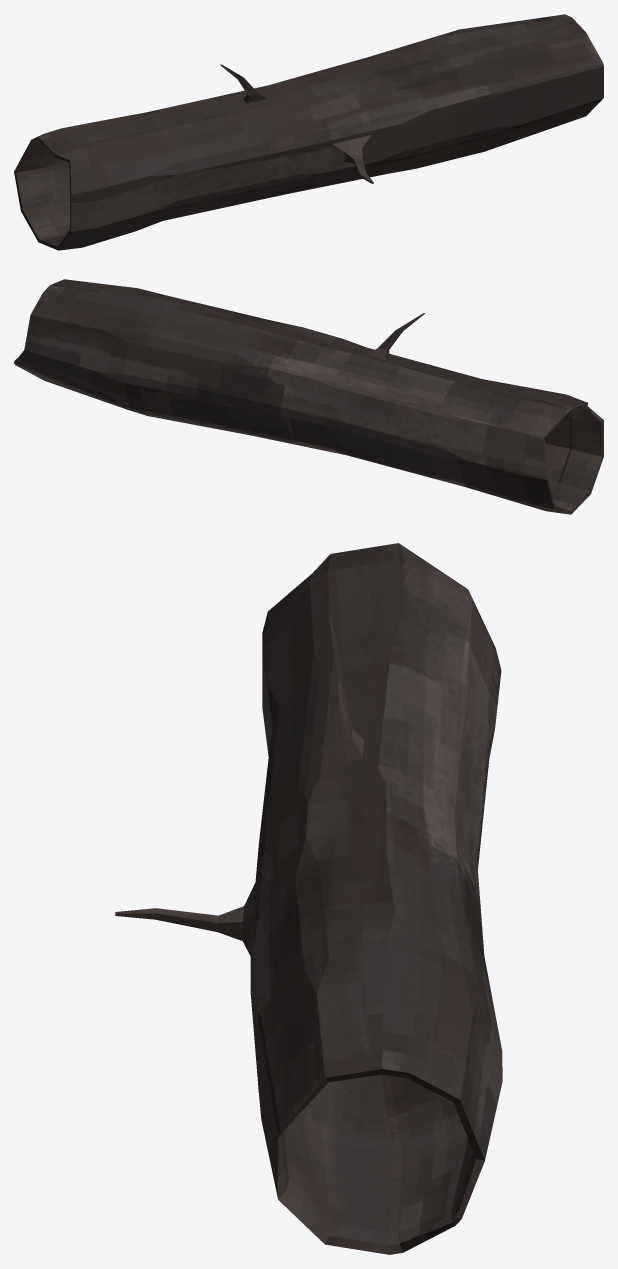
File: buchedarbre3.fbx
The picture shows the model from 3 angles, top to bottom: view 1: azimuth 30°, elevation 25°; view 2: azimuth 150°, elevation 25°; view 3: azimuth 270°, elevation 25°; orthographic projection. The views are drawn at different scales.
Parts seen in each view (by area): view 1: Cylinder.003; view 2: Cylinder.003; view 3: Cylinder.003.
Part boxes in pixels (x1,y1,x2,y2): Cylinder.003: (14, 14, 603, 250); Cylinder.003: (14, 279, 603, 514); Cylinder.003: (115, 543, 502, 1254).
Size of the model in its own units: 1102 by 297 by 341.
